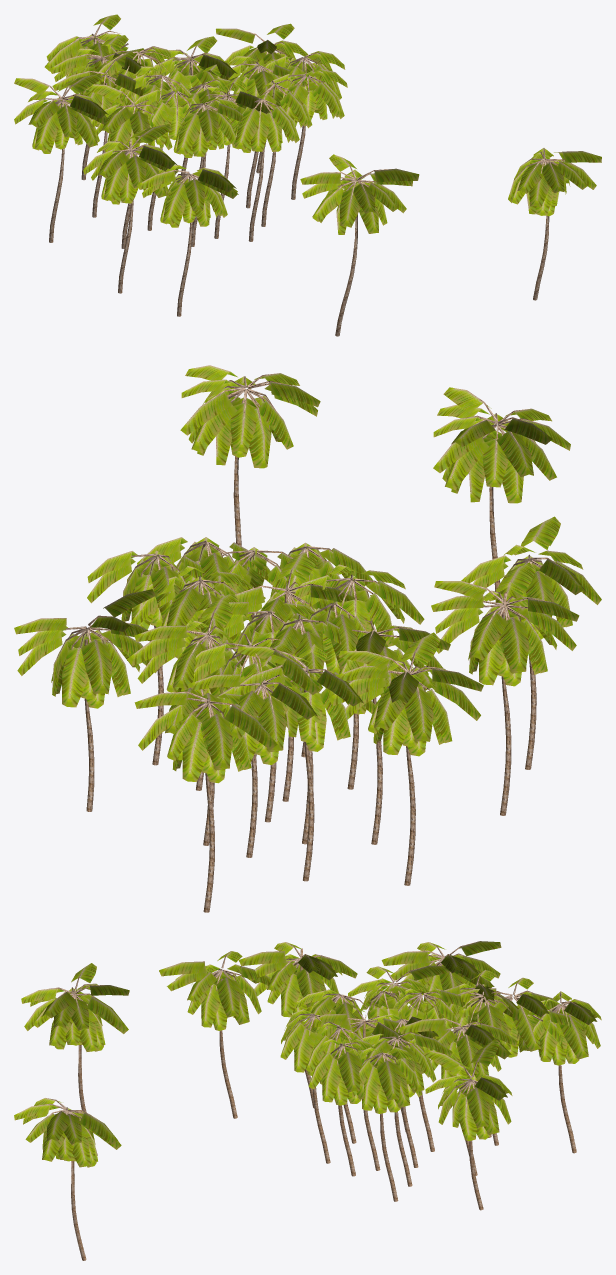
The model's file is tree.fbx.
The picture shows the model from 3 angles, top to bottom: view 1: azimuth 30°, elevation 25°; view 2: azimuth 150°, elevation 25°; view 3: azimuth 270°, elevation 25°; orthographic projection. The views are drawn at different scales.
Parts seen in each view (by area): view 1: coconut_tree; view 2: coconut_tree; view 3: coconut_tree.
Part boxes in pixels (x1,y1,x2,y2): coconut_tree: (14, 14, 601, 336); coconut_tree: (14, 365, 601, 912); coconut_tree: (14, 941, 601, 1260).
Size of the model in its own units: 7410 by 3242 by 9289.
Materials: 2 (2 with a texture image).
